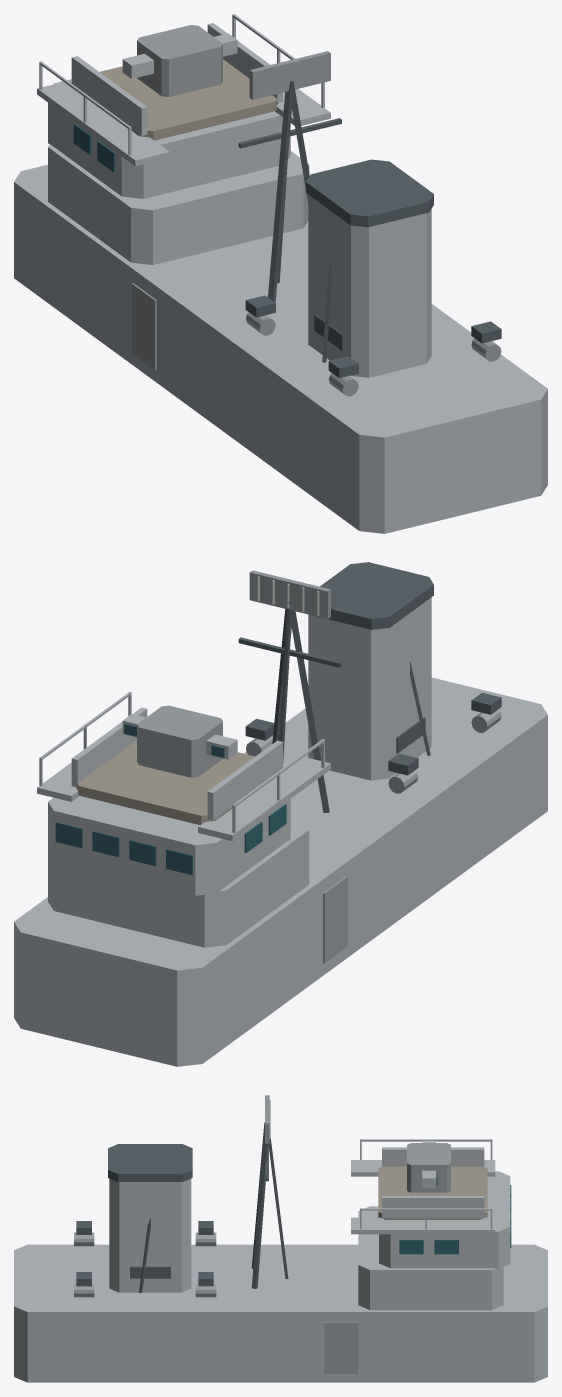
The model's file is MOD_Ww2Bridge.fbx.
The picture shows the model from 3 angles, top to bottom: view 1: azimuth 30°, elevation 25°; view 2: azimuth 150°, elevation 25°; view 3: azimuth 270°, elevation 25°; orthographic projection. The views are drawn at different scales.
Parts seen in each view (by area): view 1: IntegratedDeckhouse, FunnelCasing, ForwardBridgeLower, Wheelhouse, SootBlackCap, OpenCommandPlatform, OpticalDirector, BridgeWing, PeriodRadarFrame, CommandSplinterWall, CabinAccess, MastLeg (+5 smaller); view 2: IntegratedDeckhouse, FunnelCasing, ForwardBridgeLower, Wheelhouse, OpenCommandPlatform, SootBlackCap, OpticalDirector, BridgeWing, CommandSplinterWall, PeriodRadarFrame, CabinAccess, CommandSplinterWall.001 (+6 smaller); view 3: IntegratedDeckhouse, FunnelCasing, ForwardBridgeLower, Wheelhouse, SootBlackCap, OpenCommandPlatform, BridgeWing.001, CommandSplinterWall.001, OpticalDirector, CabinAccess.001, CommandSplinterWall, MastLeg.001 (+7 smaller).
Part boxes in pixels (bbox=[...]): IntegratedDeckhouse: bbox=[14, 164, 547, 533]; FunnelCasing: bbox=[308, 195, 431, 377]; ForwardBridgeLower: bbox=[48, 144, 309, 264]; Wheelhouse: bbox=[48, 79, 290, 198]; SootBlackCap: bbox=[306, 159, 433, 227]; OpenCommandPlatform: bbox=[100, 59, 278, 140]; OpticalDirector: bbox=[137, 25, 222, 96]; BridgeWing: bbox=[37, 80, 169, 166]; PeriodRadarFrame: bbox=[249, 51, 330, 99]; CommandSplinterWall: bbox=[71, 56, 147, 135]; CabinAccess: bbox=[131, 283, 156, 370]; MastLeg: bbox=[268, 81, 291, 302]; IntegratedDeckhouse: bbox=[14, 677, 547, 1066]; FunnelCasing: bbox=[308, 597, 431, 780]; ForwardBridgeLower: bbox=[48, 817, 309, 947]; Wheelhouse: bbox=[48, 796, 290, 895]; OpenCommandPlatform: bbox=[76, 740, 254, 825]; SootBlackCap: bbox=[320, 562, 433, 629]; OpticalDirector: bbox=[137, 705, 222, 777]; BridgeWing: bbox=[198, 755, 330, 841]; CommandSplinterWall: bbox=[207, 740, 282, 820]; PeriodRadarFrame: bbox=[249, 570, 330, 619]; CabinAccess: bbox=[323, 876, 347, 963]; CommandSplinterWall.001: bbox=[71, 707, 147, 787]; IntegratedDeckhouse: bbox=[14, 1244, 547, 1382]; FunnelCasing: bbox=[109, 1178, 191, 1292]; ForwardBridgeLower: bbox=[358, 1206, 503, 1310]; Wheelhouse: bbox=[379, 1171, 510, 1268]; SootBlackCap: bbox=[108, 1144, 192, 1181]; OpenCommandPlatform: bbox=[378, 1166, 487, 1219]; BridgeWing.001: bbox=[351, 1217, 495, 1234]; CommandSplinterWall.001: bbox=[382, 1196, 484, 1218]; OpticalDirector: bbox=[407, 1143, 450, 1192]; CabinAccess.001: bbox=[324, 1322, 358, 1373]; CommandSplinterWall: bbox=[382, 1147, 484, 1166]; MastLeg.001: bbox=[251, 1123, 268, 1288].
Size of the model in its own units: 170 by 272 by 548.
